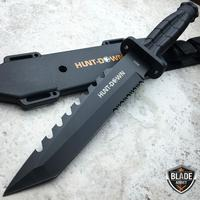knife: (3, 32, 176, 198)
